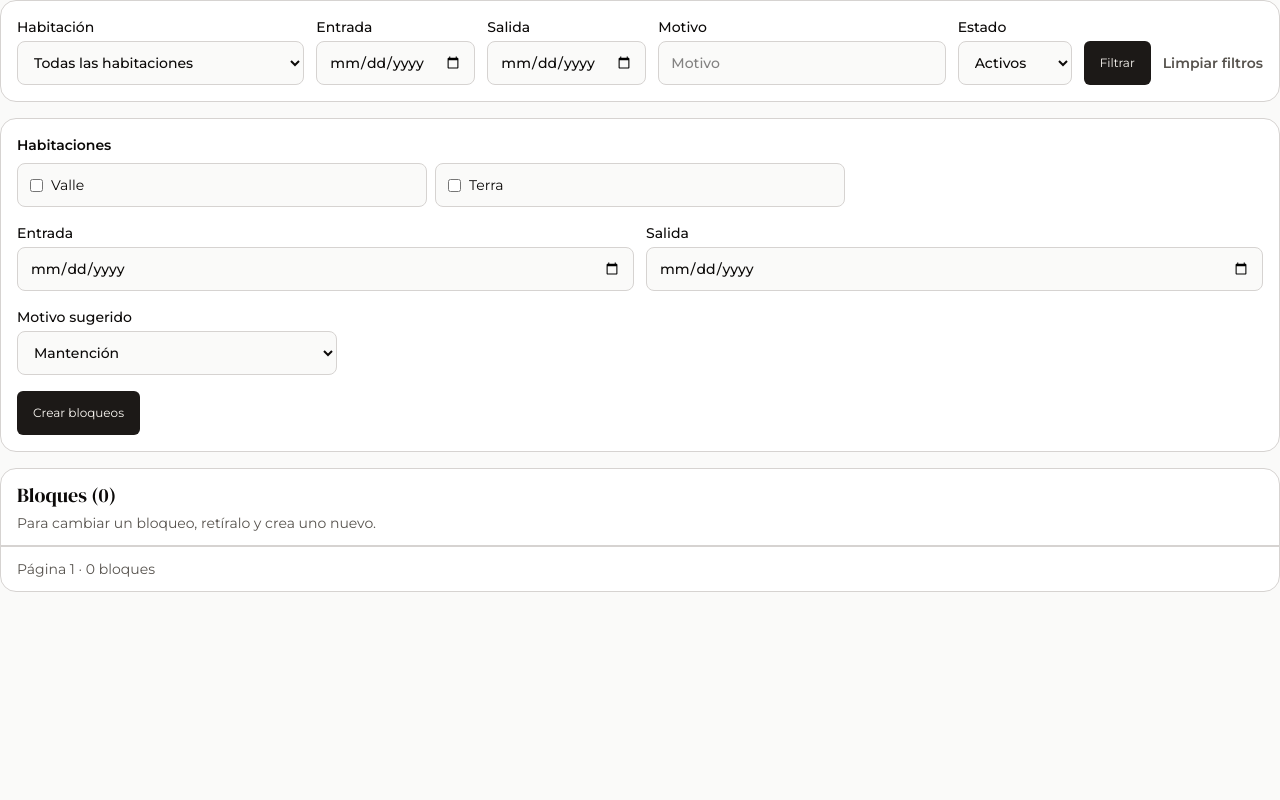
manual block form › confirms explicitly with the signal set and reports the created blocks
Submit the form "Crear bloqueos", box [0, 118, 1279, 452]
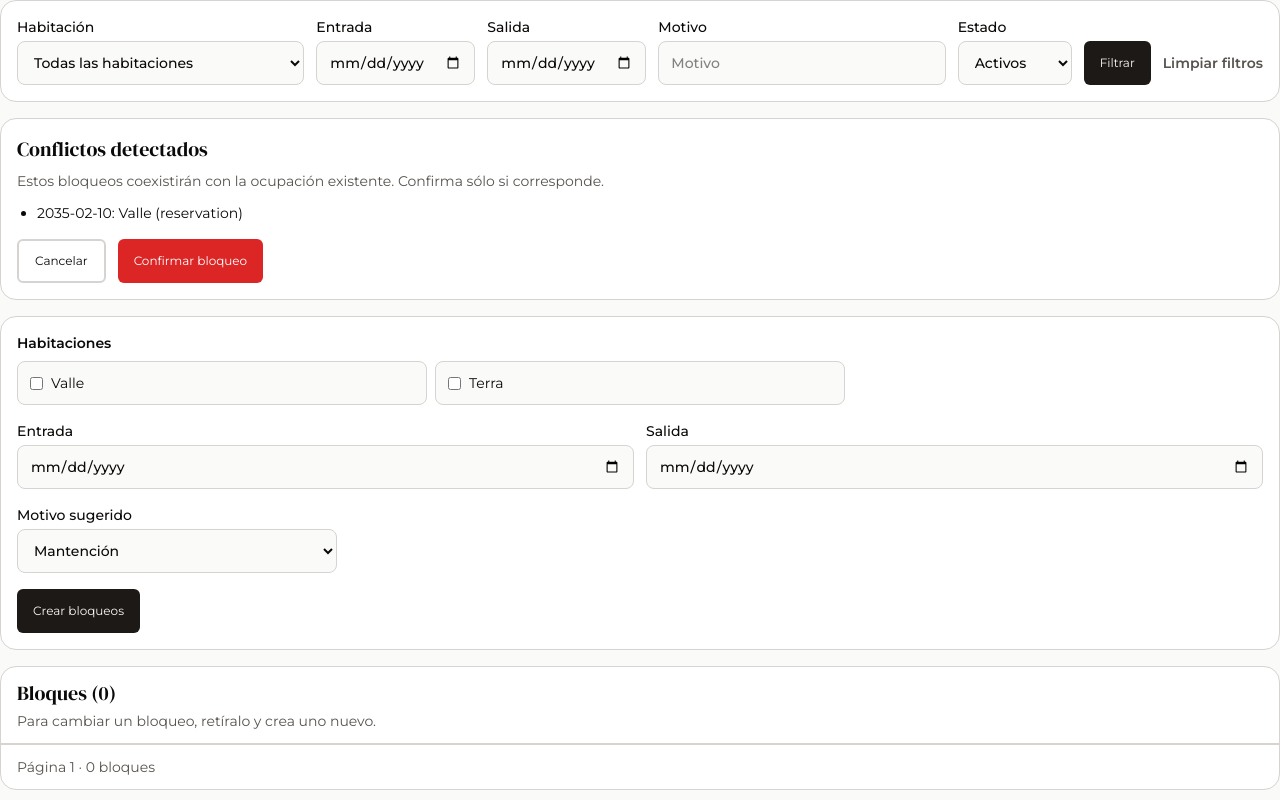
Check: the dialog named "Confirmar conflictos de bloqueo" is shown, box [0, 118, 1279, 300]
Click the button "Confirmar bloqueo".
click(190, 261)  # box [118, 239, 263, 283]
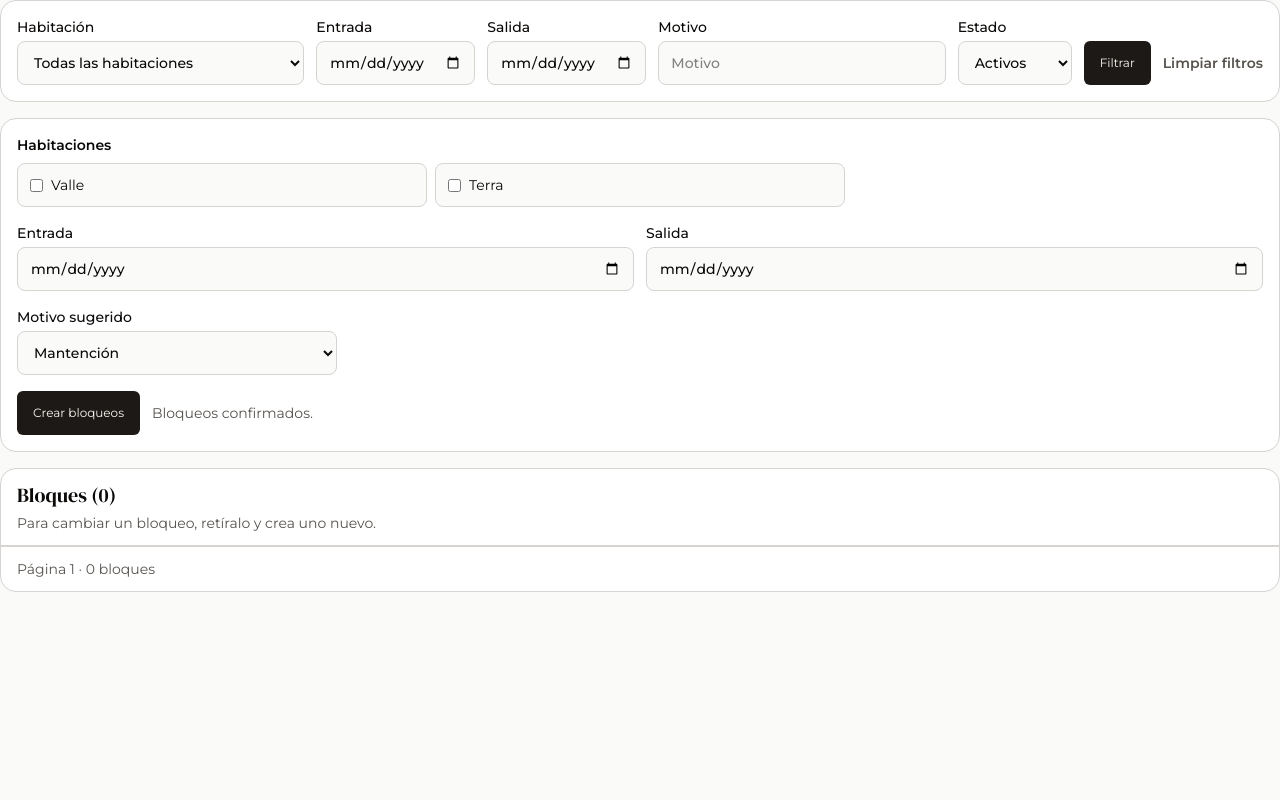
Check: the message reads "Bloqueos confirmados.", box [152, 404, 313, 422]
